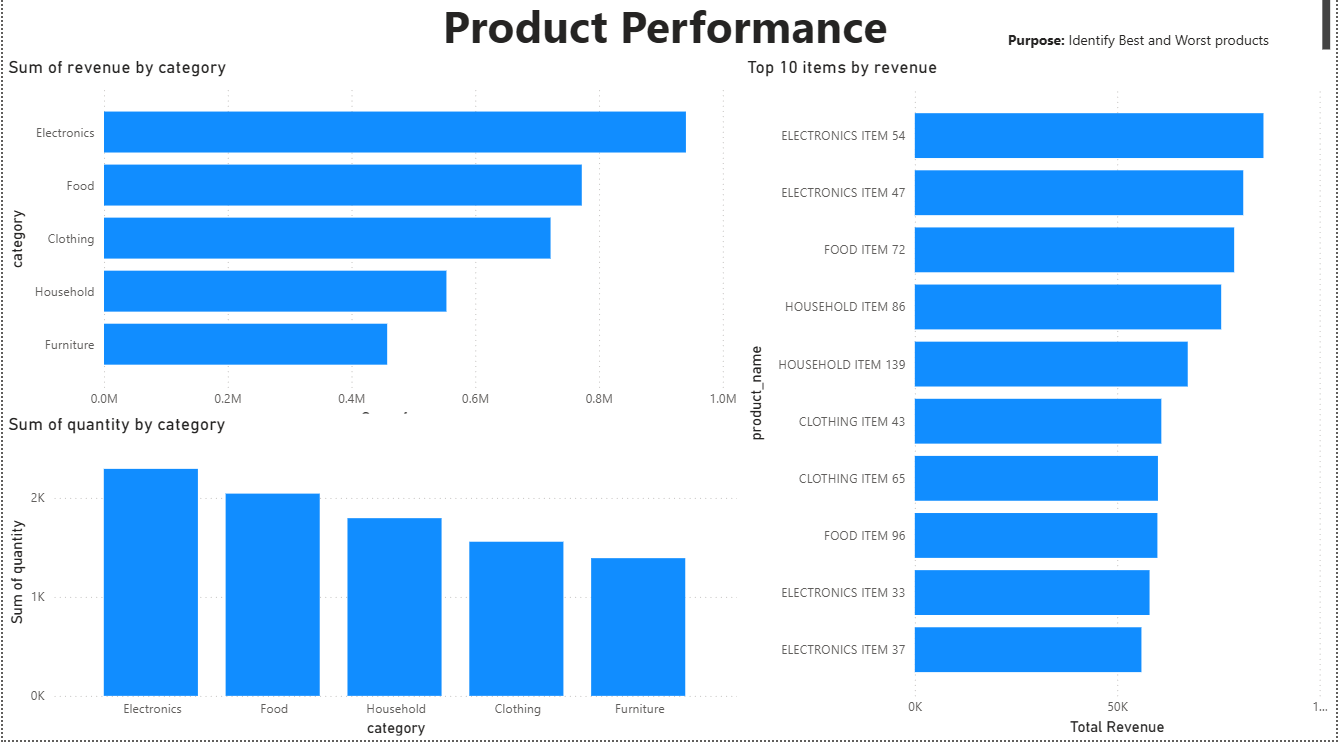

What the dashboard file says about the page in this screenshot:
{"tool":"powerbi","page":{"name":"Page 2","canvas":[1280,720],"ordinal":1},"visuals":[{"type":"barChart","fields":{"Y":["Sum(gold fact_orders.revenue)"],"Category":["gold dim_products.category"]},"box":[0,64.6,710.3,359.6],"z":5000},{"type":"columnChart","fields":{"Category":["gold dim_products.category"],"Y":["Sum(gold fact_orders.quantity)"]},"box":[0,406.4,710.3,314],"z":6000},{"type":"textbox","box":[0,0,1280.1,64.6],"z":8000},{"type":"textbox","box":[959.7,32.9,264.6,31.7],"z":9000},{"type":"barChart","title":"Top 10 items by revenue","fields":{"Y":["gold fact_orders.Total Revenue"],"Category":["gold dim_products.product_name"]},"box":[710.3,64.6,569.8,655.9],"z":9001}]}

Visuals, with their boxes in screenshot pixels (x1, y1, x2, y2), scaled from the page's 1280x720 canvas onto the 1340x742 screenshot:
barChart - Sum(gold fact_orders.revenue) x gold dim_products.category: rect(0, 67, 744, 437)
columnChart - gold dim_products.category x Sum(gold fact_orders.quantity): rect(0, 419, 744, 741)
textbox: rect(0, 0, 1339, 67)
textbox: rect(1005, 34, 1282, 67)
"Top 10 items by revenue" barChart: rect(744, 67, 1339, 741)
